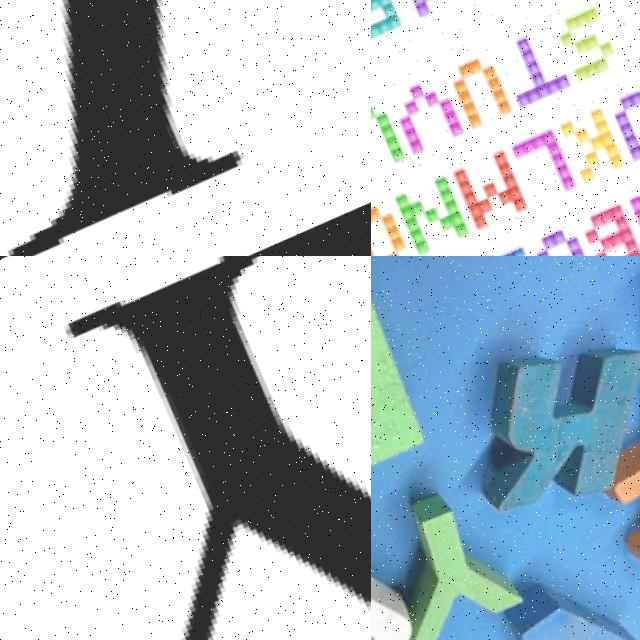4: (382, 0, 451, 31)
5: (371, 0, 398, 47)
F: (371, 284, 429, 514)
I: (594, 425, 640, 592)
K: (441, 312, 640, 536)
L: (0, 0, 371, 256)
V: (490, 576, 640, 640)
Y: (0, 256, 371, 640), (371, 477, 527, 640)
